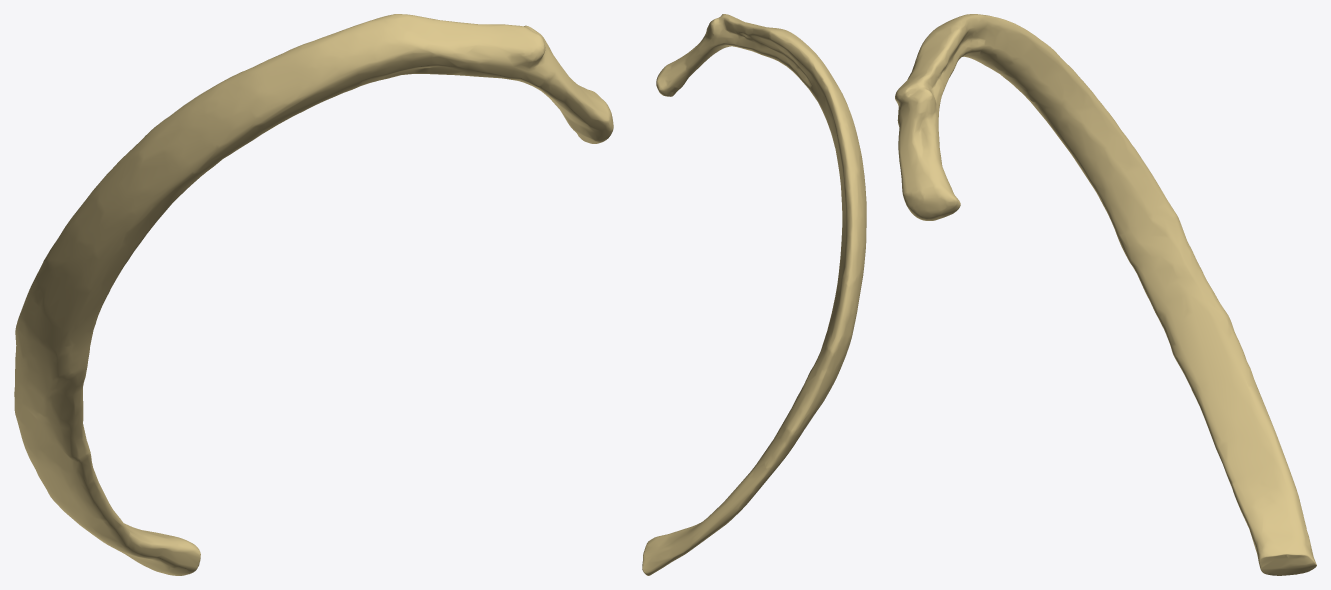
3 renders of one model, left to right at view 1: azimuth 30°, elevation 25°; view 2: azimuth 150°, elevation 25°; view 3: azimuth 270°, elevation 25°, orthographic. The views are drawn at different scales.
Parts seen in each view (by area): view 1: 右侧第四肋; view 2: 右侧第四肋; view 3: 右侧第四肋.
Part boxes in pixels (x1=…): 右侧第四肋: x1=14, y1=14, x2=613, y2=575; 右侧第四肋: x1=642, y1=14, x2=866, y2=575; 右侧第四肋: x1=895, y1=14, x2=1316, y2=575.
Bounding box in the file's own units: 0.1615 × 0.2502 × 0.1725.
